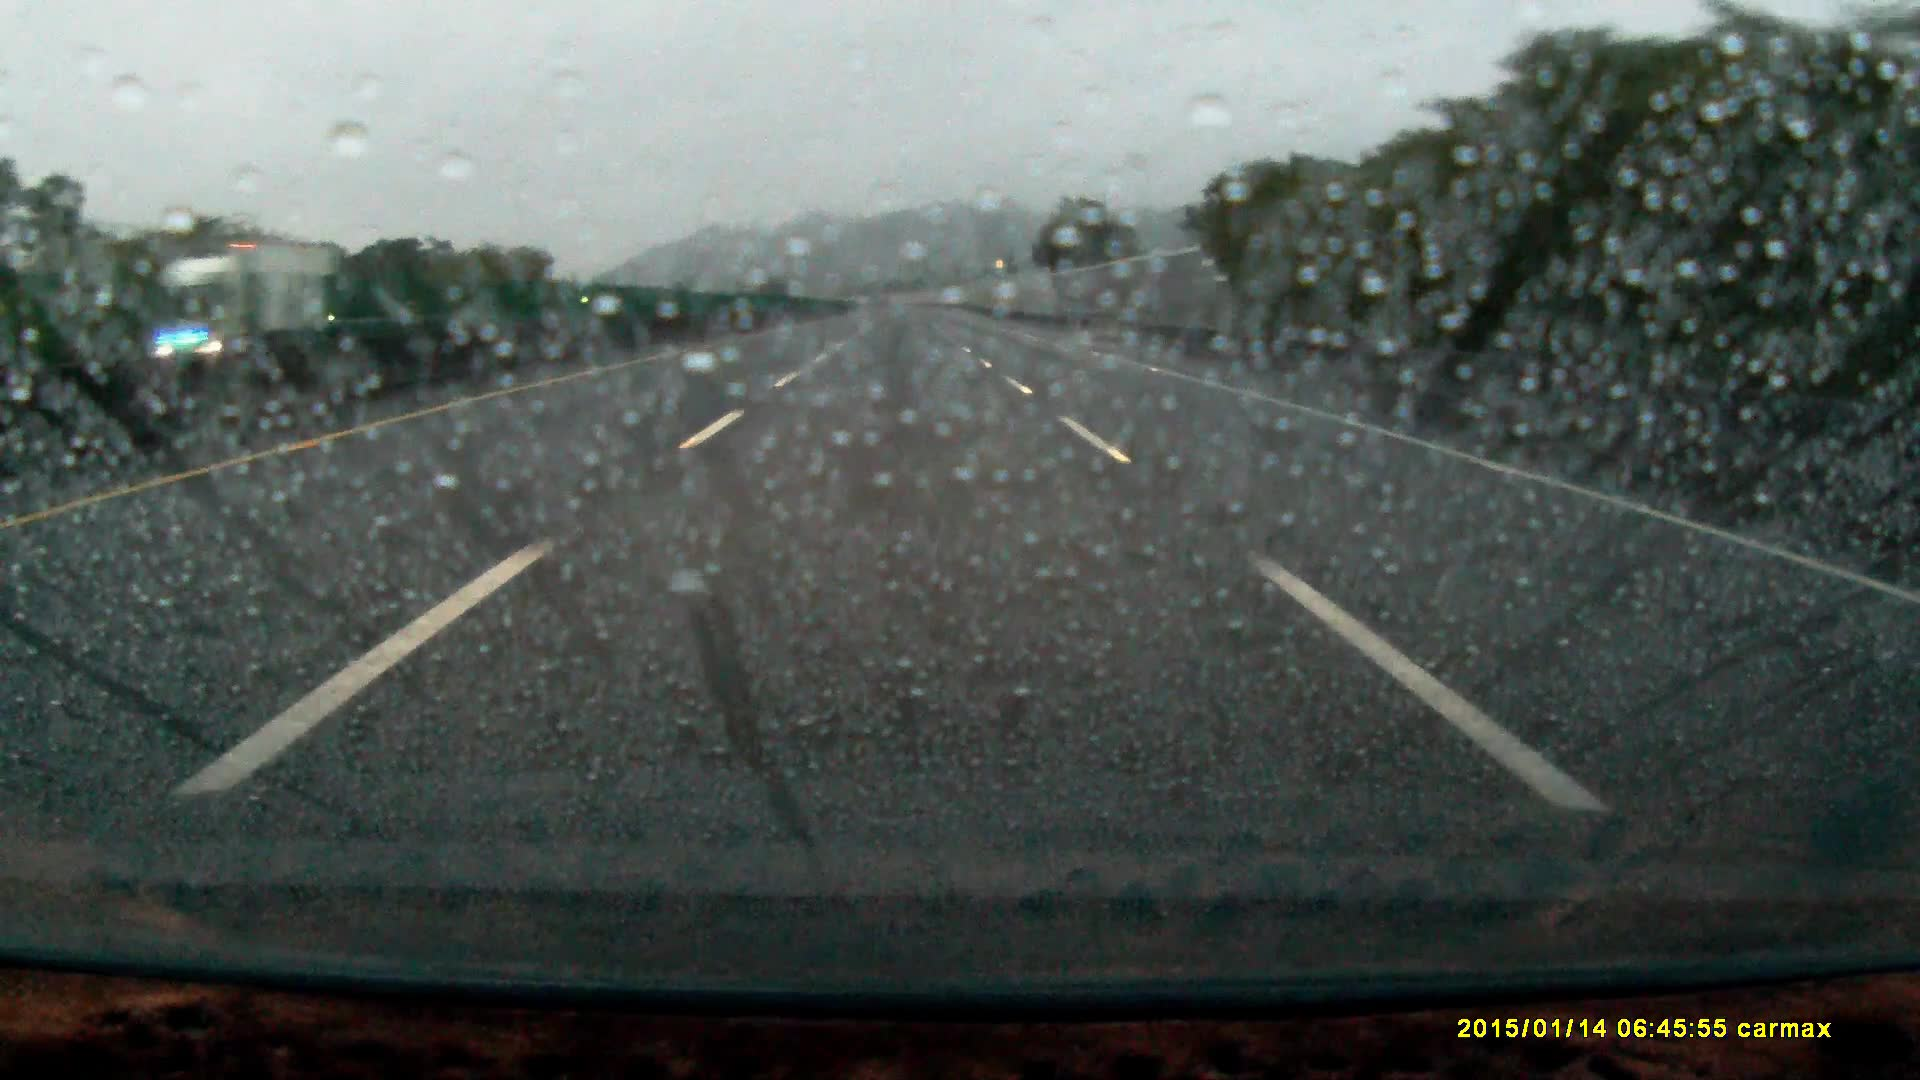vehicle: (142, 239, 347, 401)
